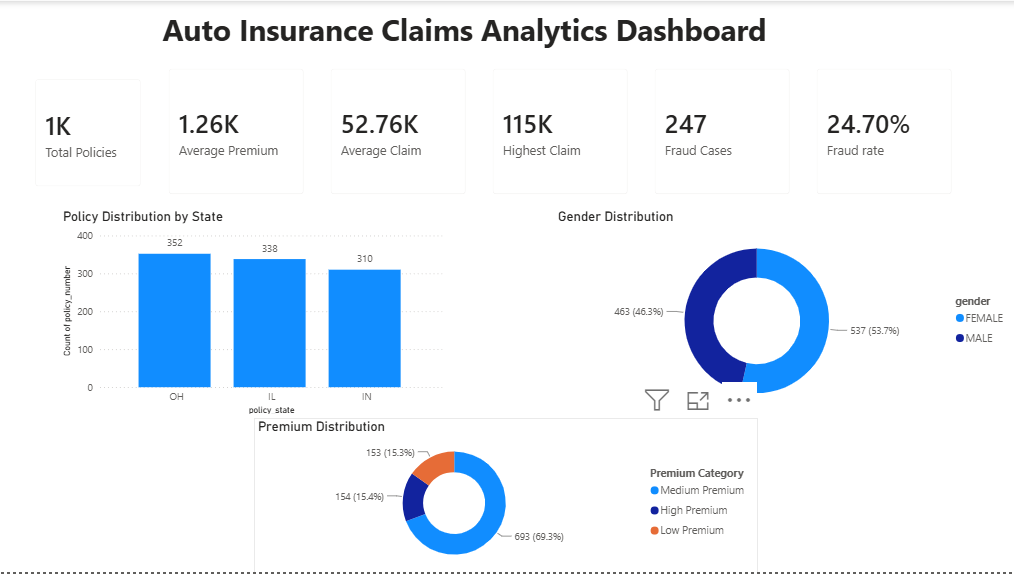

This screenshot's page, from the dashboard's own definition file:
{"tool":"powerbi","page":{"name":"Executive Summary","canvas":[1280,720],"ordinal":0},"visuals":[{"type":"clusteredColumnChart","title":"Policy Distribution by State","fields":{"Category":["Auto Claims.policy_state"],"Y":["CountNonNull(Auto Claims.policy_number)"]},"box":[75.8,260.5,488,264.4],"z":0},{"type":"cardVisual","fields":{"Data":["Auto Claims.Average Premium"]},"box":[195.7,68.7,204.2,192.5],"z":1000},{"type":"cardVisual","fields":{"Data":["Auto Claims.Average Claim"]},"box":[399.9,68.7,204.2,192.5],"z":2000},{"type":"cardVisual","fields":{"Data":["Auto Claims.Highest Claim"]},"box":[604,68.7,204.2,192.5],"z":3000},{"type":"cardVisual","fields":{"Data":["Auto Claims.Fraud Cases"]},"box":[808.2,68.7,204.2,192.5],"z":4000},{"type":"cardVisual","fields":{"Data":["Auto Claims.Fraudrate"]},"box":[1012.3,68.7,204.2,192.5],"z":5000},{"type":"textbox","box":[196.4,5.8,779.7,62.2],"z":6000},{"type":"donutChart","title":"Gender Distribution","fields":{"Category":["Auto Claims.gender"],"Y":["CountNonNull(Auto Claims.policy_number)"]},"box":[700,260.5,579.4,264.4],"z":7000},{"type":"donutChart","title":"Premium Distribution","fields":{"Category":["Auto Claims.Premium Category"],"Y":["CountNonNull(Auto Claims.policy_number)"]},"box":[320.8,525,635.8,194.4],"z":8000},{"type":"cardVisual","fields":{"Data":["Auto Claims.Total Policies"]},"box":[29.2,81.7,167.2,169.2],"z":9000}]}

Visuals, with their boxes in screenshot pixels (x1, y1, x2, y2), scaled from the page's 1280x720 canvas onto the 1014x574 screenshot:
"Policy Distribution by State" clusteredColumnChart: box=[60, 208, 447, 418]
cardVisual - Auto Claims.Average Premium: box=[155, 55, 317, 208]
cardVisual - Auto Claims.Average Claim: box=[317, 55, 479, 208]
cardVisual - Auto Claims.Highest Claim: box=[478, 55, 640, 208]
cardVisual - Auto Claims.Fraud Cases: box=[640, 55, 802, 208]
cardVisual - Auto Claims.Fraudrate: box=[802, 55, 964, 208]
textbox: box=[156, 5, 773, 54]
"Gender Distribution" donutChart: box=[555, 208, 1013, 418]
"Premium Distribution" donutChart: box=[254, 419, 758, 573]
cardVisual - Auto Claims.Total Policies: box=[23, 65, 156, 200]
